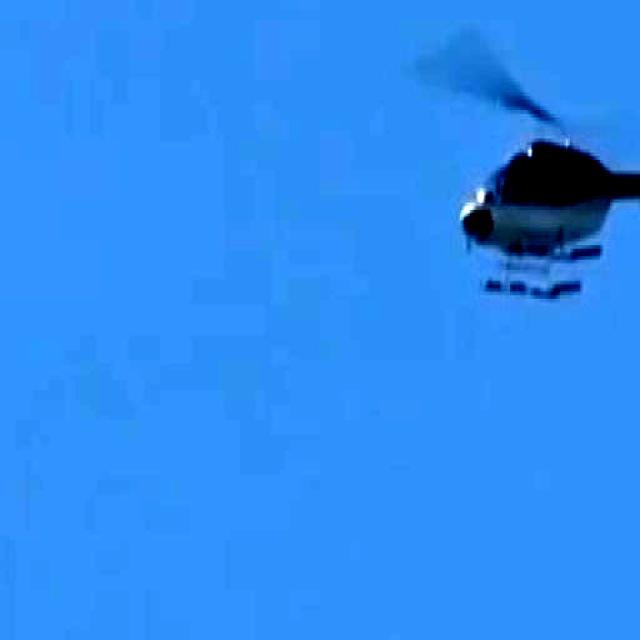drone: (450, 36, 640, 309)
